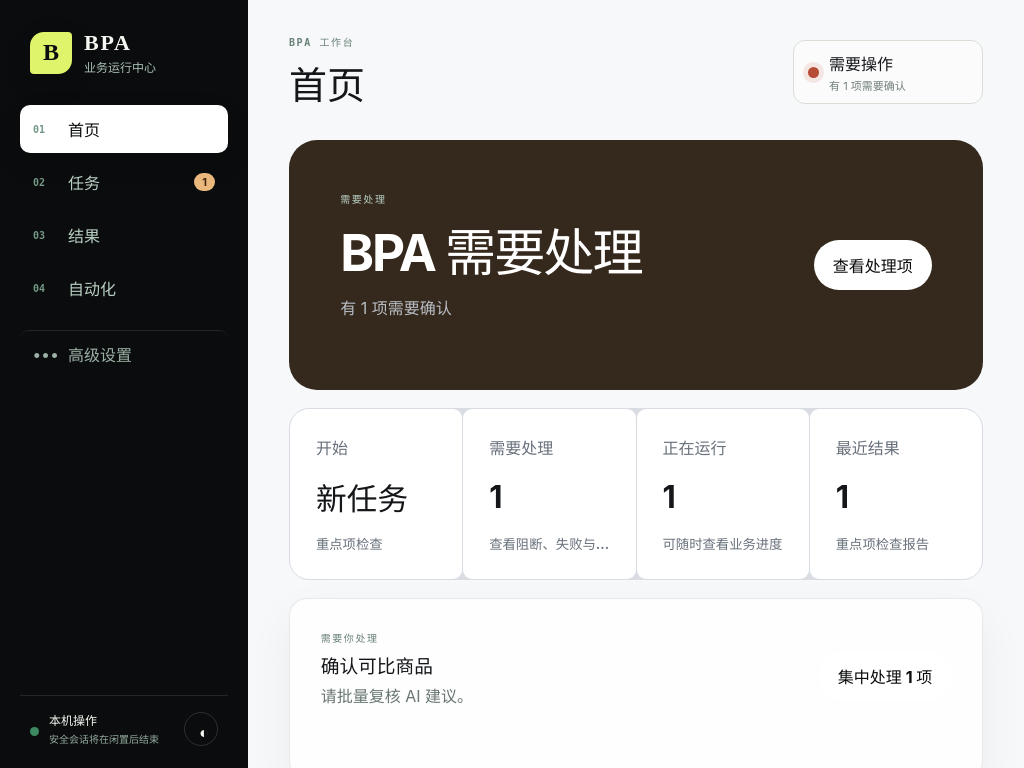
Scenario: Operator Console › shows business work first and keeps diagnostics in advanced mode
Check: the heading "BPA 需要处理" is shown, box [340,212,642,286]
Check: the text "需要操作" is shown, box [829,54,893,74]
Click the button "••• 高级设置" at (124, 354), box [20,330,228,377]
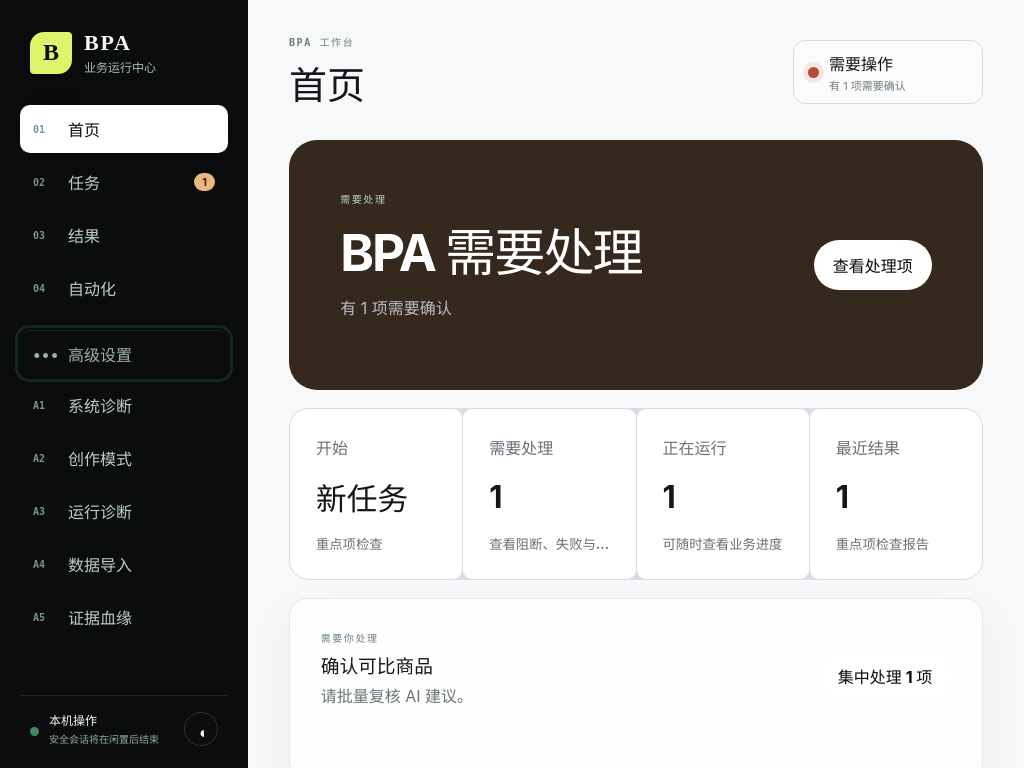
Click the button "A1 系统诊断" at (124, 405), box [20,381,228,429]
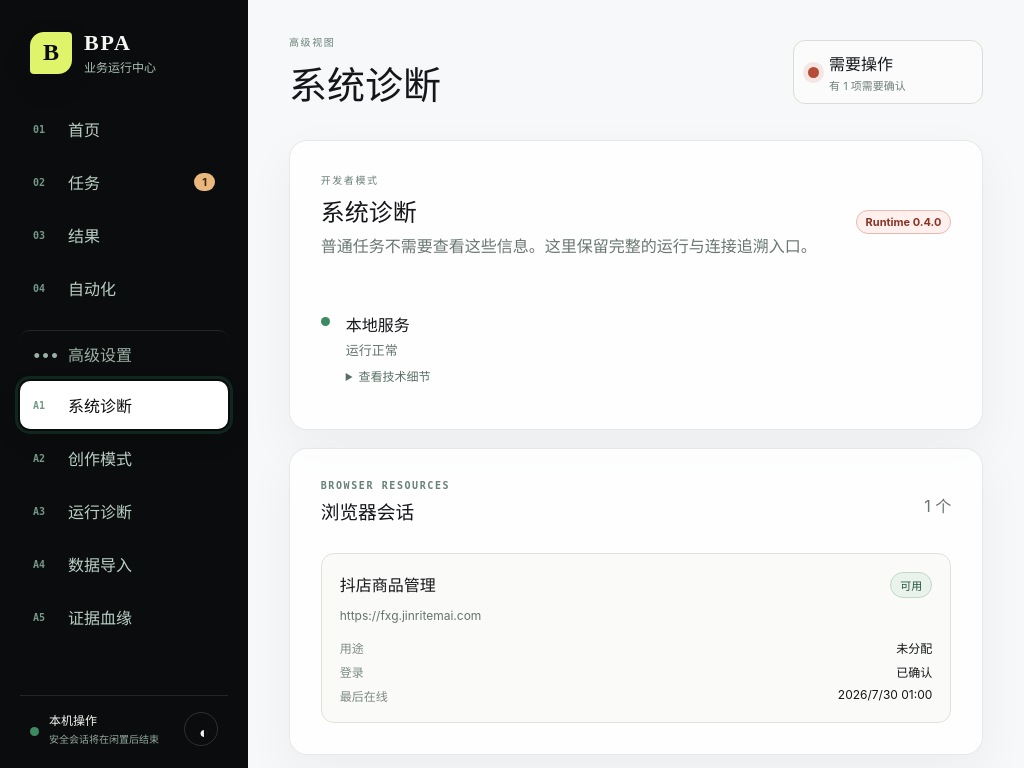
Check: the text "抖店商品管理" is shown, box [340,572,436,596]
